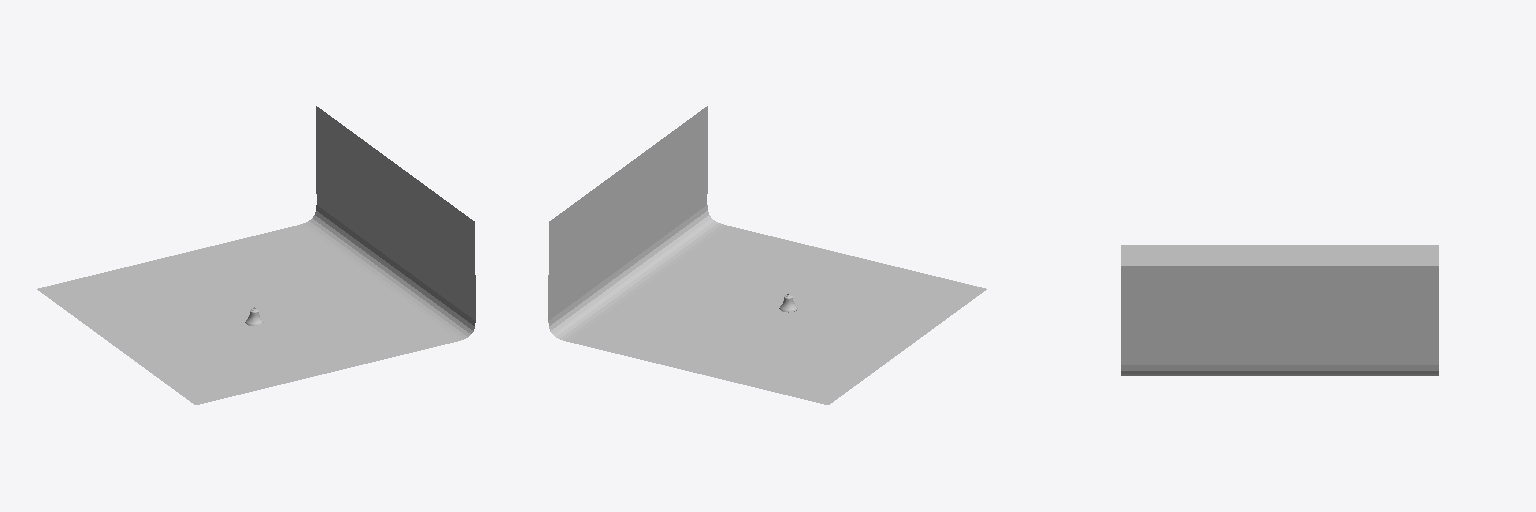
Rendered from BELL LIBERTY.obj.
The picture shows the model from 3 angles: view 1: azimuth 30°, elevation 25°; view 2: azimuth 150°, elevation 25°; view 3: azimuth 270°, elevation 25°; orthographic projection.
Visible parts, largest first — view 1: scene; view 2: scene; view 3: scene.
Boxes of the visible parts, box(x1,y1,x2,y2) form: scene: box(37, 106, 475, 404); scene: box(548, 106, 986, 404); scene: box(1121, 245, 1438, 375).
Size of the model in its own units: 3024 by 1198 by 2974.